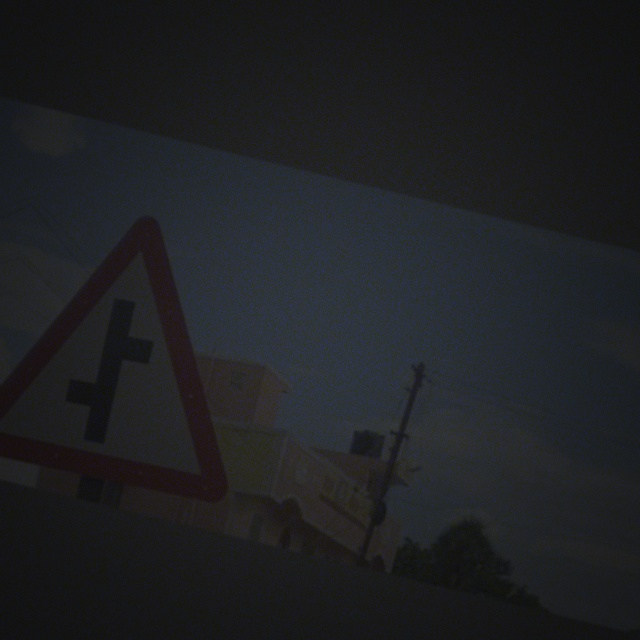Staggered_Intersection: (1, 195, 269, 504)
